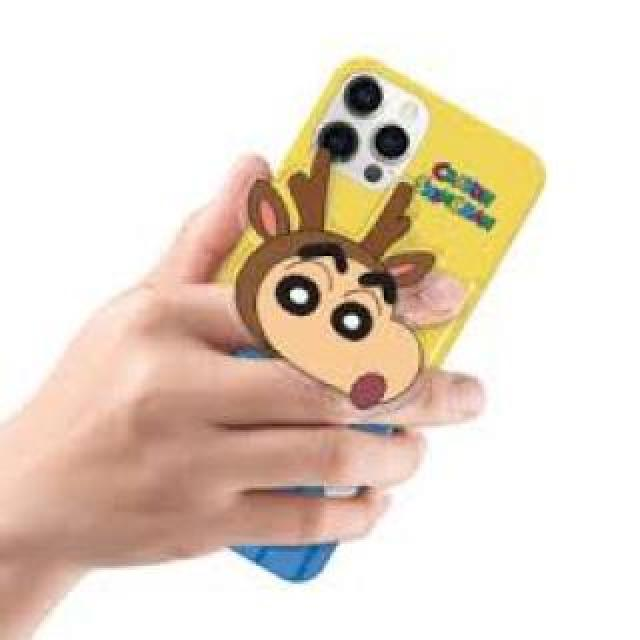smart phone: (224, 35, 574, 520)
